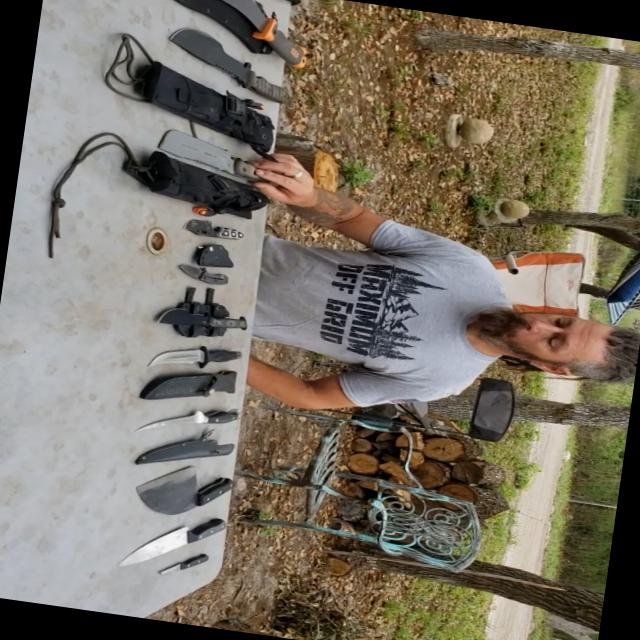knife: (159, 24, 311, 127), (153, 0, 340, 78), (142, 128, 292, 198), (116, 508, 242, 590), (132, 298, 268, 361), (125, 389, 245, 458), (129, 462, 246, 524), (140, 338, 258, 380), (163, 258, 245, 306), (162, 212, 255, 246), (160, 544, 216, 583)
